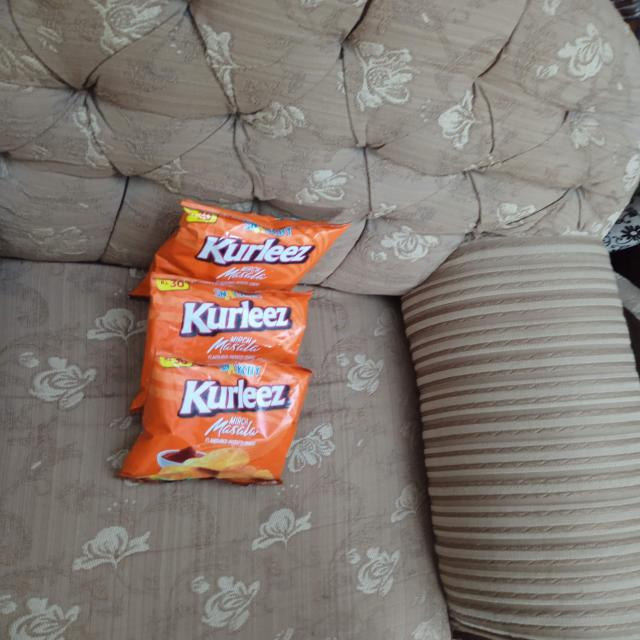Plastic: (127, 362, 304, 484), (156, 200, 351, 280), (148, 278, 308, 358)
